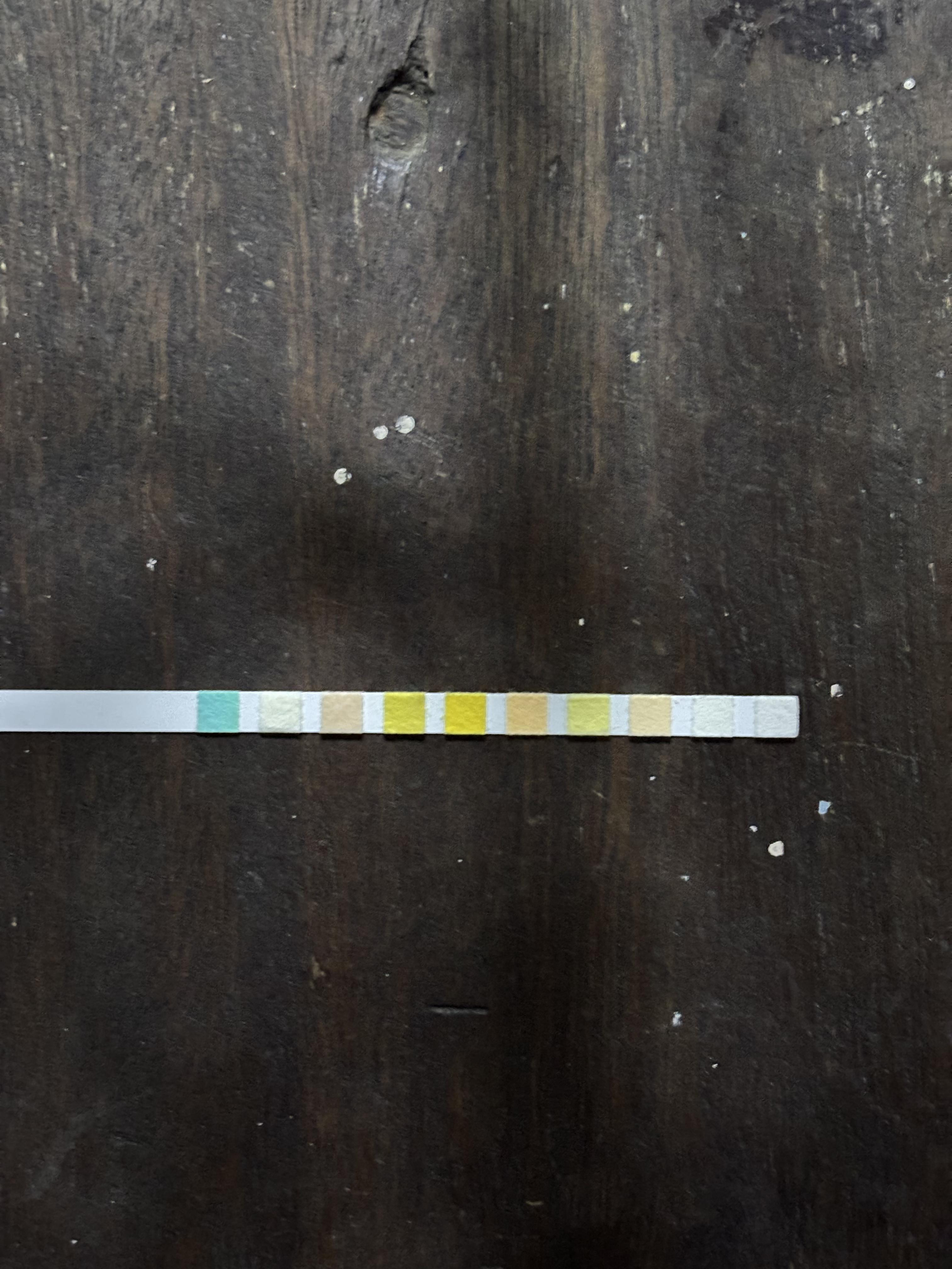Bilirubin: (263, 693, 300, 732)
Blood: (447, 695, 485, 734)
Glucose: (200, 693, 238, 731)
Ketone: (325, 694, 363, 733)
Leukocytes: (758, 698, 796, 737)
Nitrite: (694, 697, 732, 735)
Protein: (569, 695, 607, 733)
SpGravity: (385, 694, 423, 732)
Urobilinogen: (631, 696, 669, 734)
pH: (508, 695, 545, 733)
strip: (13, 690, 799, 738)
